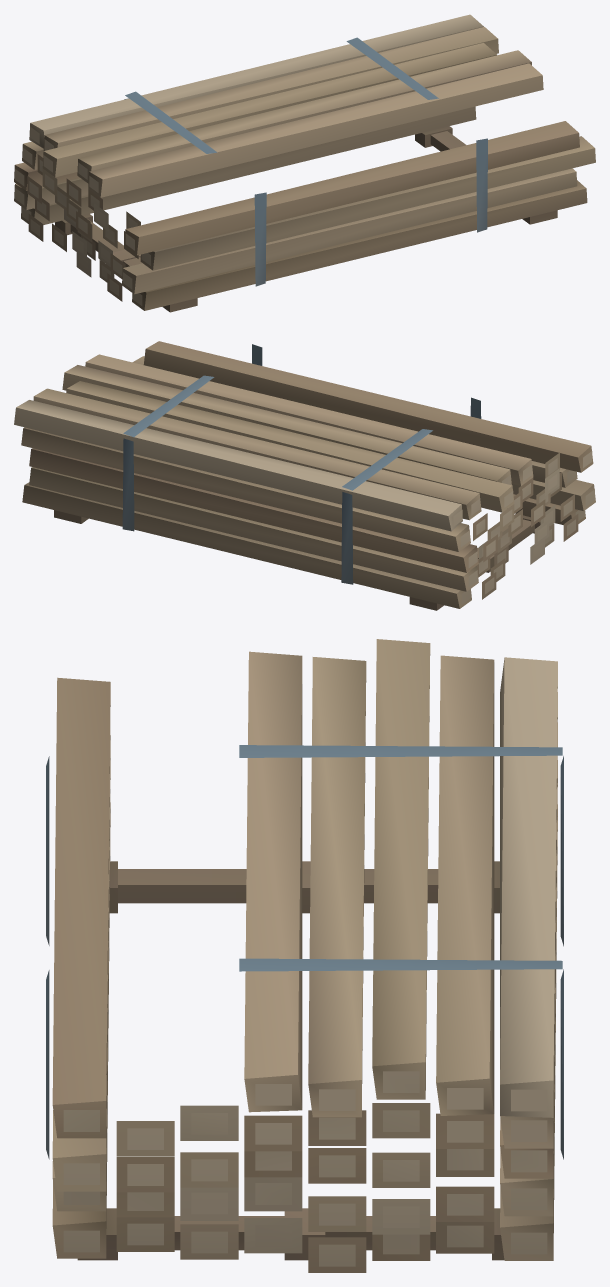
Rendered from timber.lod1.glb.
3 renders of one model, top to bottom at view 1: azimuth 30°, elevation 25°; view 2: azimuth 150°, elevation 25°; view 3: azimuth 270°, elevation 25°, orthographic. The views are drawn at different scales.
Size of the model in its own units: 4.23 by 0.945 by 2.05.
